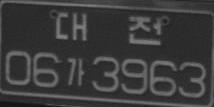0: (4, 49, 31, 86)
3: (91, 54, 120, 93), (177, 60, 206, 99)
6: (148, 58, 177, 97), (31, 50, 59, 88)
9: (120, 57, 148, 94)
가: (66, 56, 85, 86)
대전_D: (54, 10, 163, 46)
